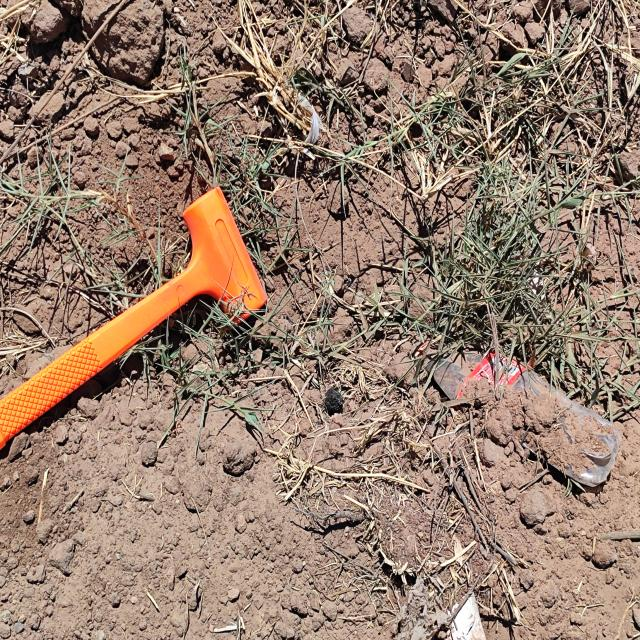Orange_hammer: (0, 184, 268, 452)
